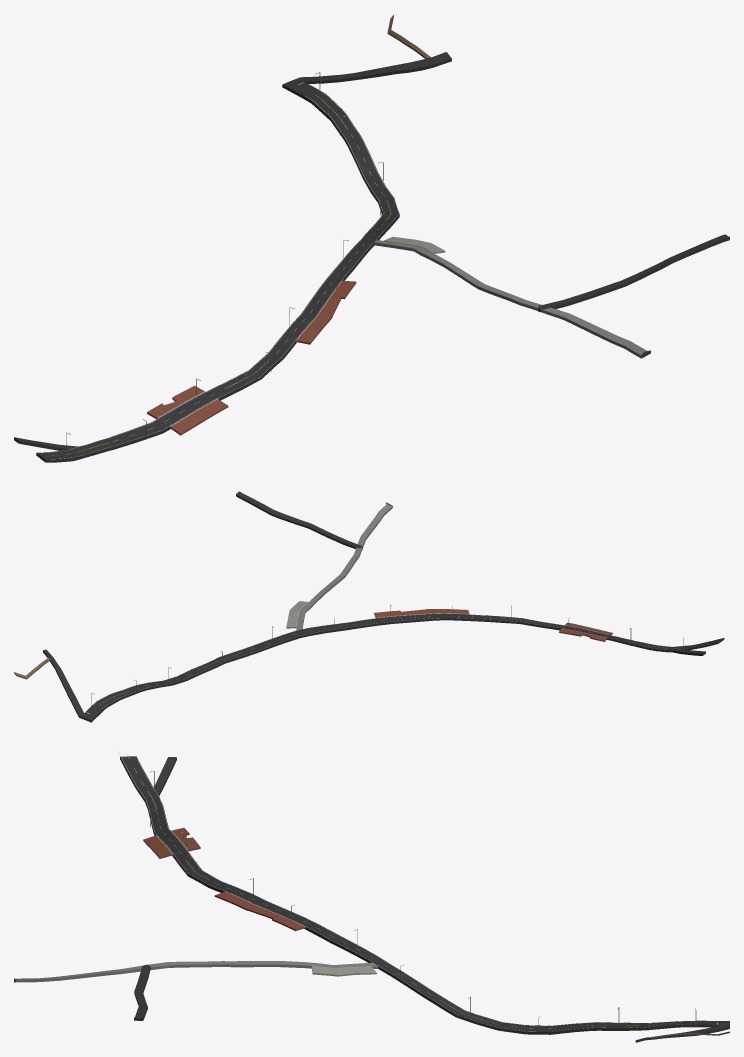
3 views of the same model, one above another, from view 1: azimuth 30°, elevation 25°; view 2: azimuth 150°, elevation 25°; view 3: azimuth 270°, elevation 25° (orthographic). The views are drawn at different scales.
Bounding box in the file's own units: 296 × 32.52 × 292.
